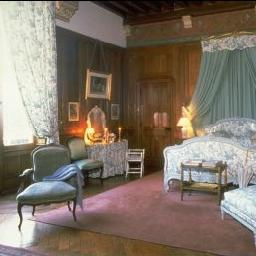Cama: (168, 123, 254, 180)
